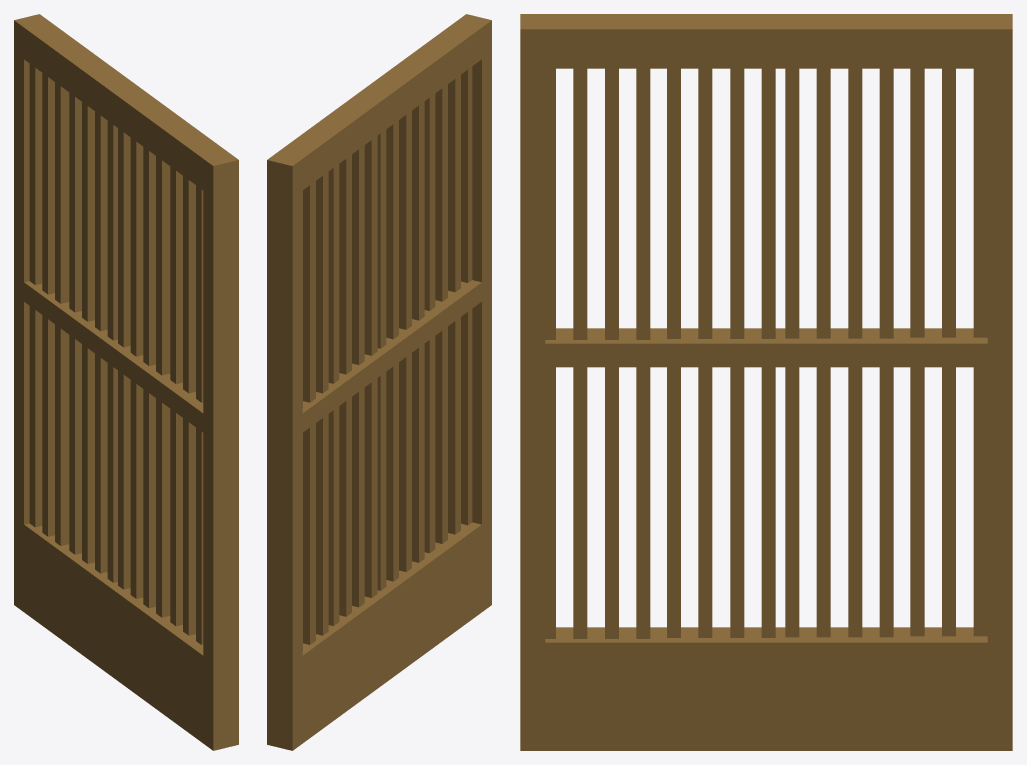
The model's file is sushi_door.fbx.
3 renders of one model, left to right at view 1: azimuth 30°, elevation 25°; view 2: azimuth 150°, elevation 25°; view 3: azimuth 270°, elevation 25°, orthographic. The views are drawn at different scales.
Visible parts, largest first — view 1: Cube; view 2: Cube; view 3: Cube.
Boxes of the visible parts, x1,y1,x2,y2 form: Cube: (14, 14, 238, 750); Cube: (267, 14, 491, 750); Cube: (520, 14, 1012, 750).
Bounding box in the file's own units: 51.58 × 1127 × 697.
